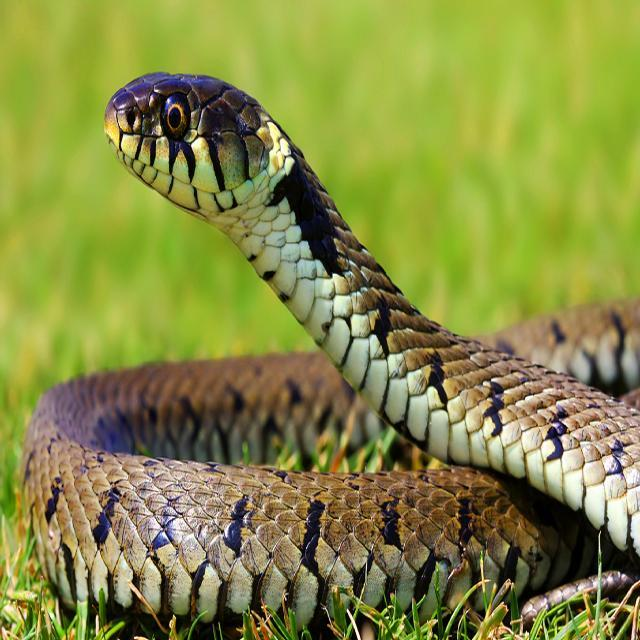Snake: (16, 40, 640, 640)
